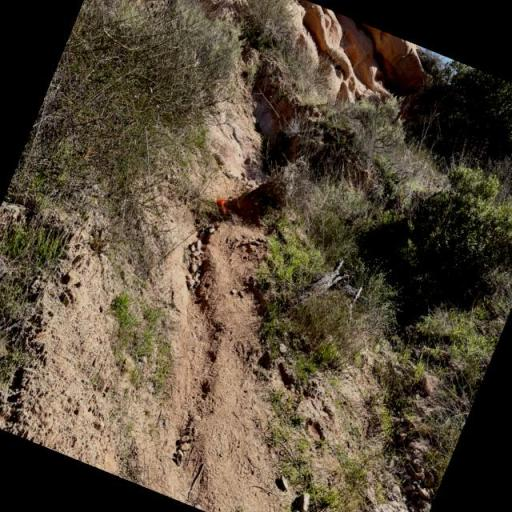mallet: (212, 196, 231, 216)
